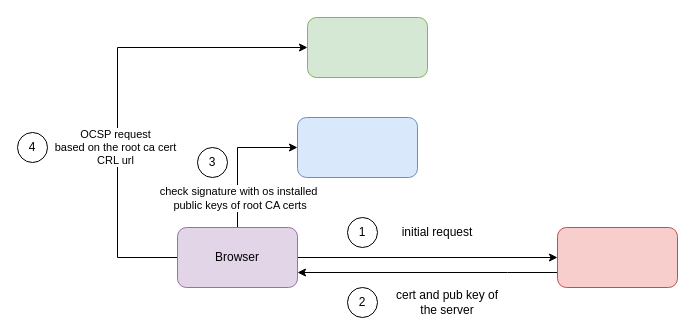
Image size: 695x335. Some labels were removed from this diagram. Here are the shapes that lost their labels. From the top down, the box of each, then its label:
(306, 16, 428, 78): CA The entytiywho signed the root cert on the Website Cert
(296, 116, 418, 178): OS Installed CA Certs
(556, 226, 678, 288): Website
